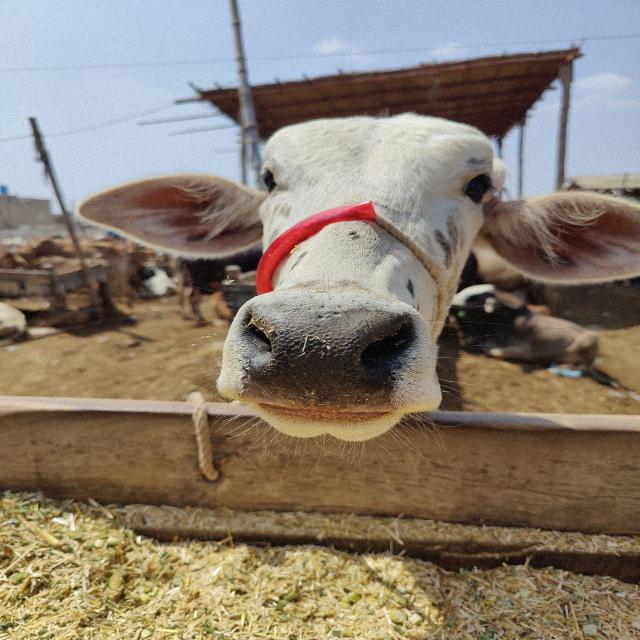muzzles: (234, 288, 420, 414)
